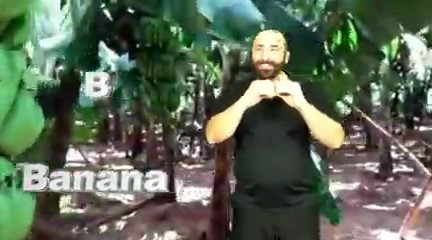B: (243, 77, 303, 109)
